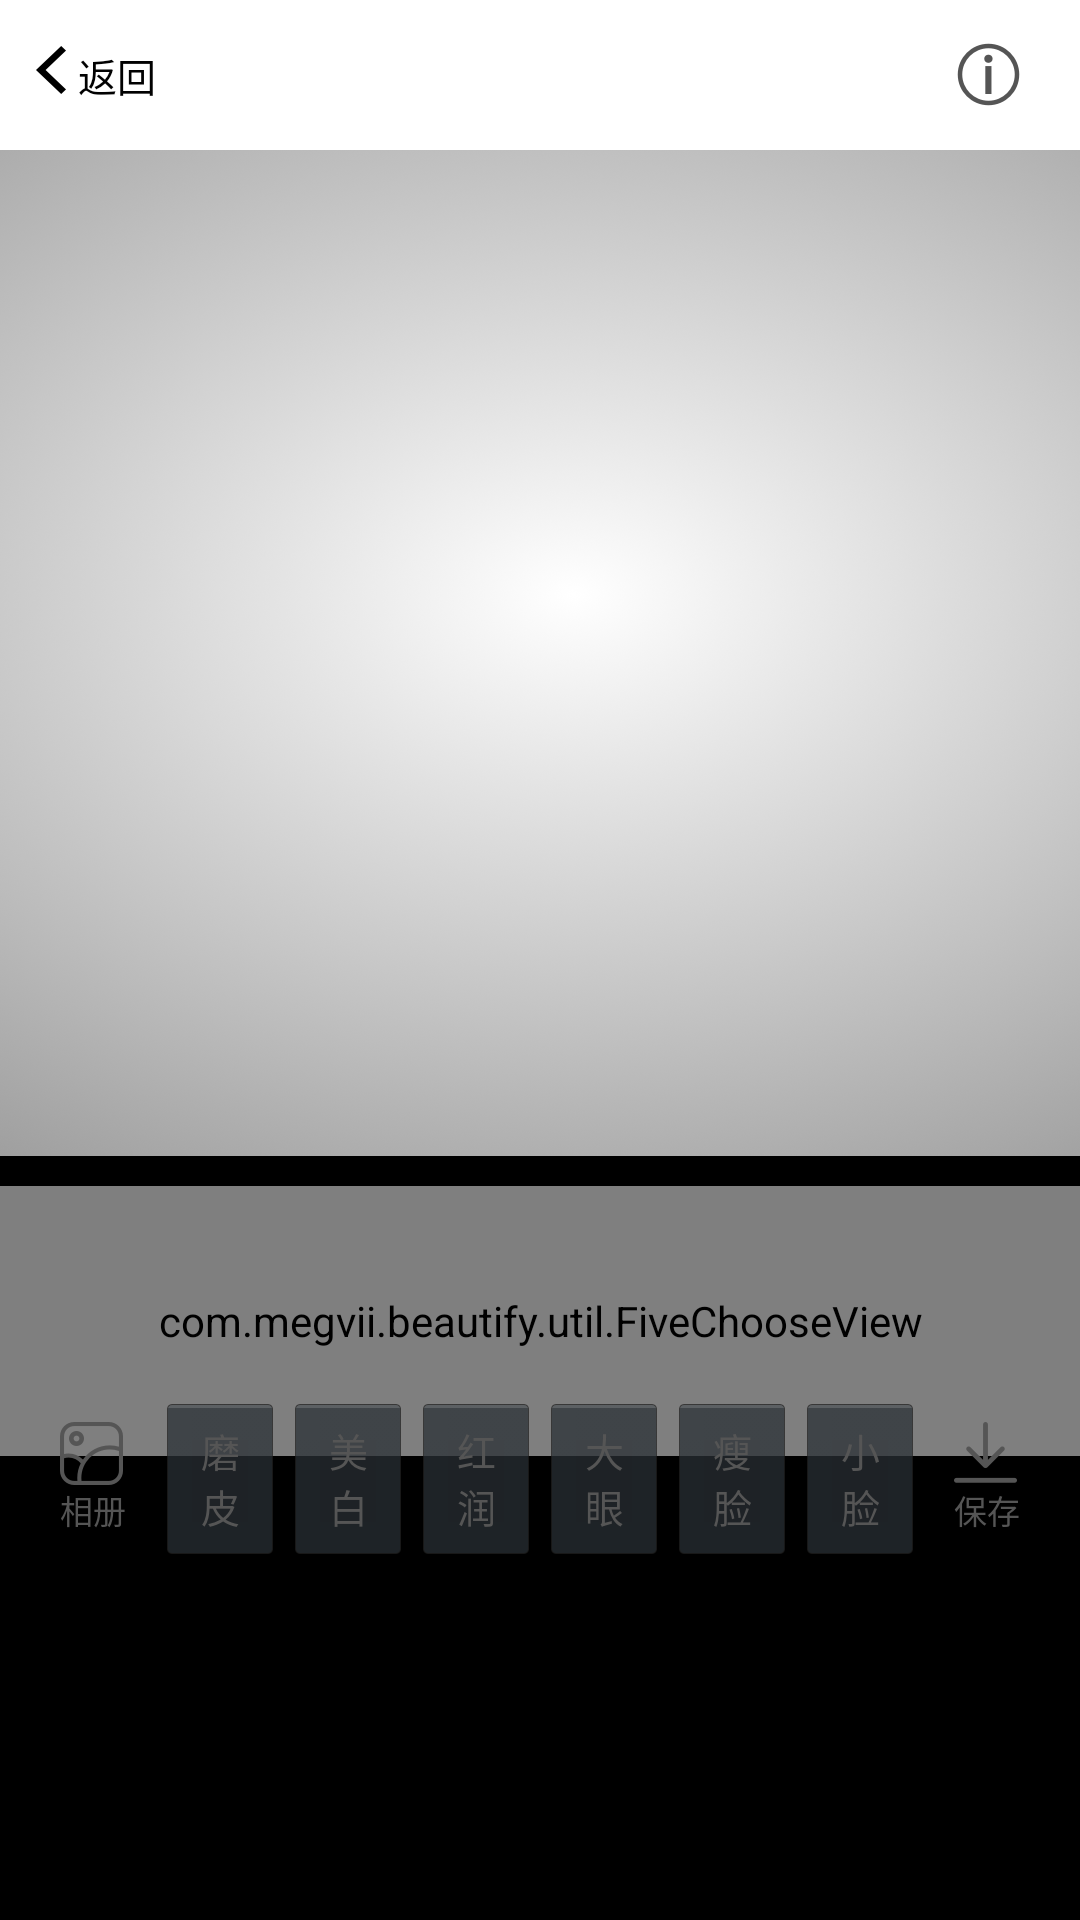

Screen size 1080x1920. Icon name, then its center in pixels as (x=x, y=y):
download: (x=985, y=1453)
info: (x=988, y=74)
photograph: (x=91, y=1453)
